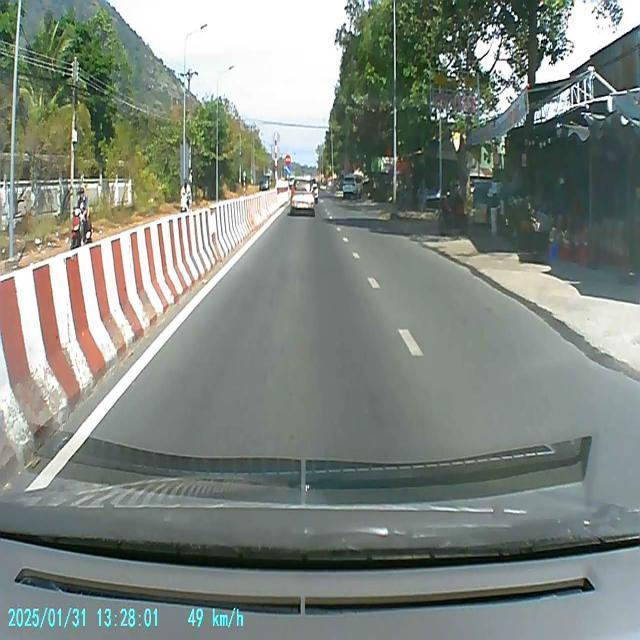102-cam-di-nguoc-chieu: (284, 155, 292, 166)
302a-huong-phai-di-vong-chuong-ngai-vat-1: (285, 164, 291, 176)
